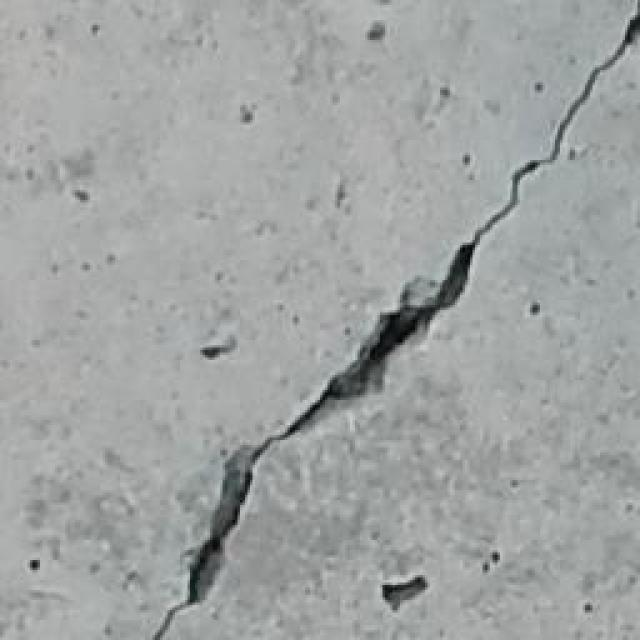concrete-crack: (157, 23, 636, 640)
